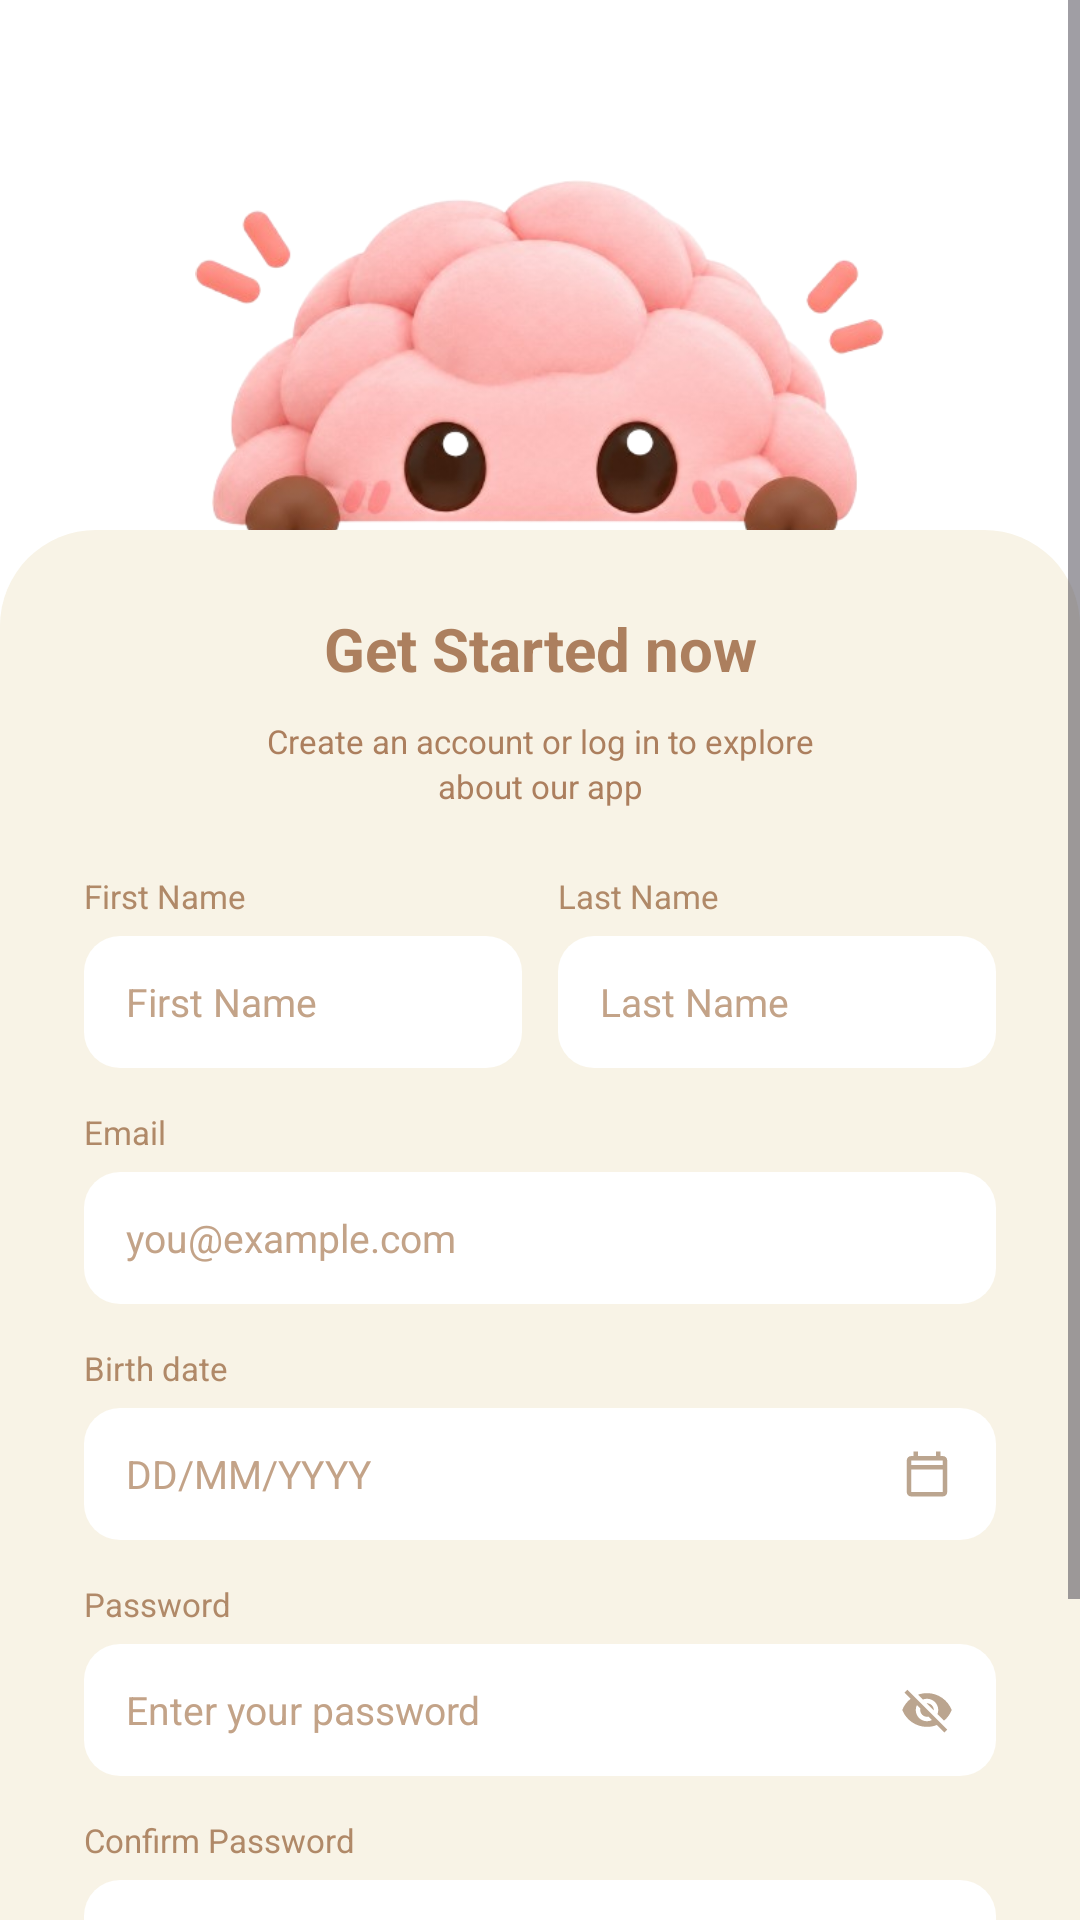

Icon click points for this 1080px×1920px phone screenshot, format (x,y):
Pick a date: (927,1474)
